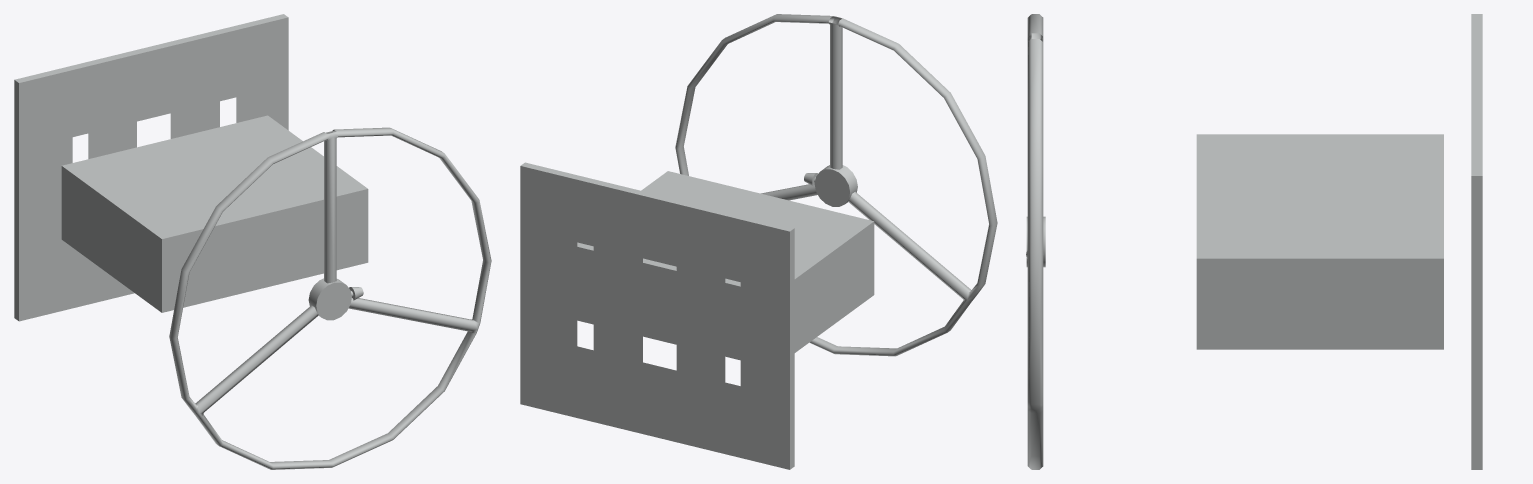
Rendered from MeshDeskLamp_3_0_GeomSubset_1.obj.
3 views of the same model, side by side, from view 1: azimuth 30°, elevation 25°; view 2: azimuth 150°, elevation 25°; view 3: azimuth 270°, elevation 25° (orthographic). The views are drawn at different scales.
Visible parts, largest first — view 1: MeshDeskLamp_3_0_GeomSubset_1; view 2: MeshDeskLamp_3_0_GeomSubset_1; view 3: MeshDeskLamp_3_0_GeomSubset_1.
Part boxes in pixels (x1,y1,x2,y2): MeshDeskLamp_3_0_GeomSubset_1: (14,14,491,469); MeshDeskLamp_3_0_GeomSubset_1: (520,14,997,469); MeshDeskLamp_3_0_GeomSubset_1: (1026,14,1482,469).
Bounding box in the file's own units: 0.1877 × 0.1882 × 0.2037.
1 material, 1 textured.
